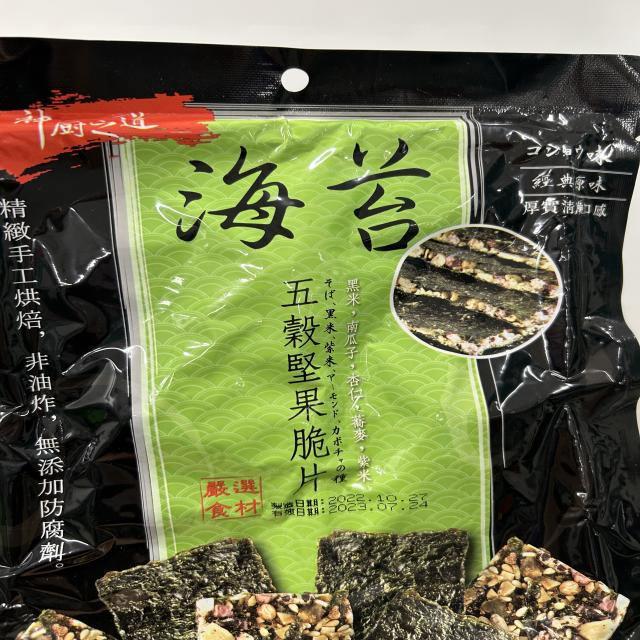object_name: (4, 43, 640, 640)
